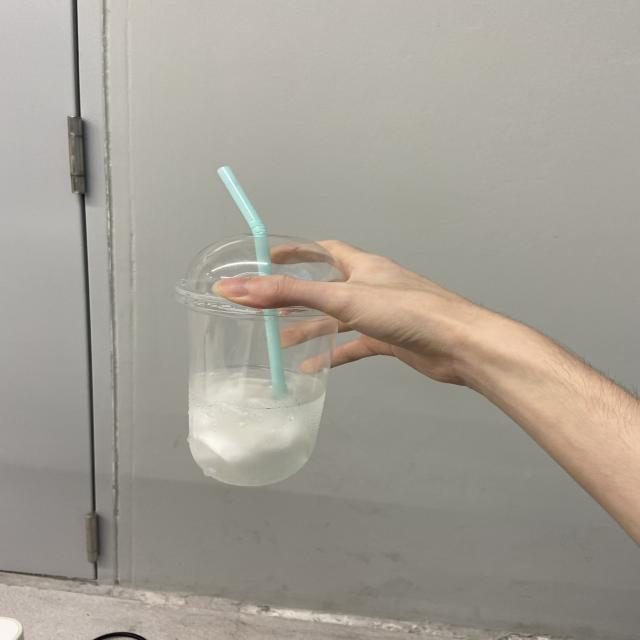cup: (170, 232, 345, 487)
